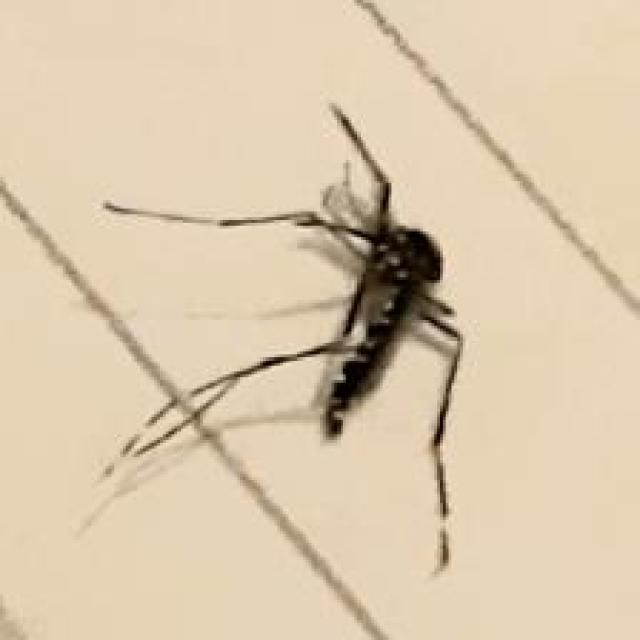Aedes albopictus: (89, 101, 468, 576)
